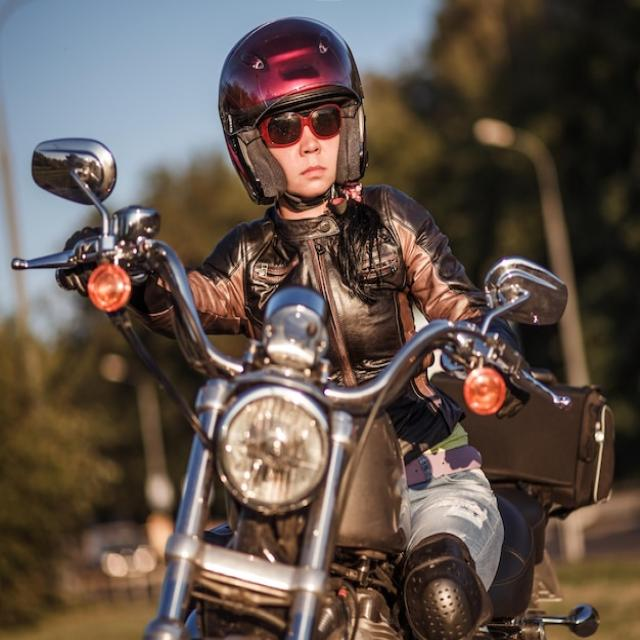3-4-helmet: (218, 15, 367, 205)
